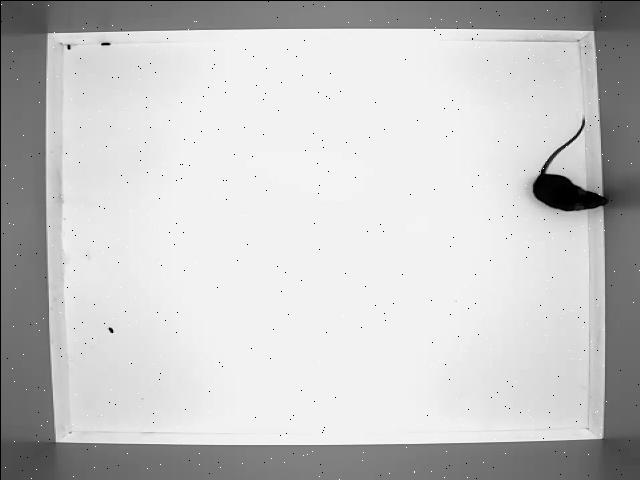Tikus: (531, 117, 609, 212)
